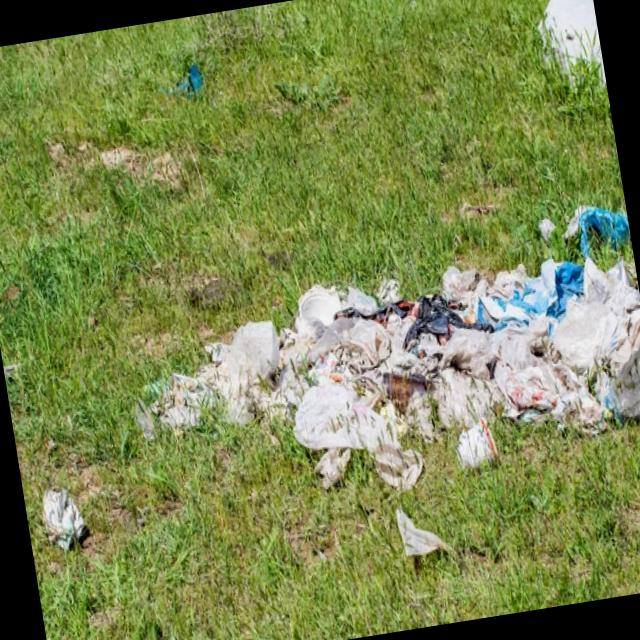garbage: (229, 219, 640, 591)
